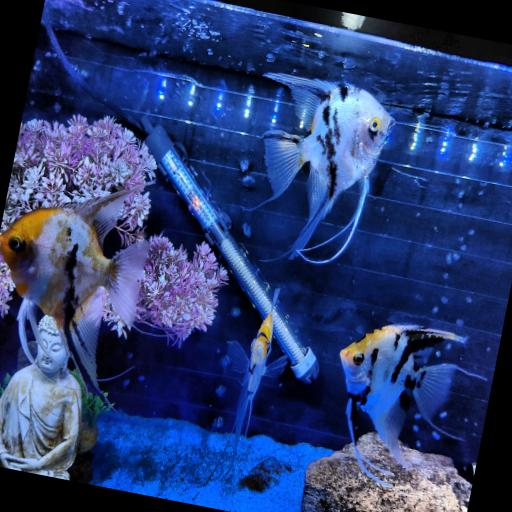Fish: (0, 187, 148, 389), (263, 74, 393, 262), (340, 325, 465, 486), (228, 289, 287, 460)
